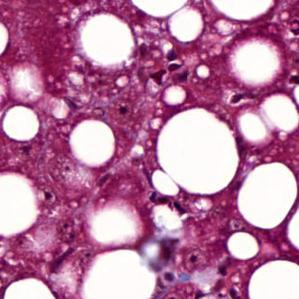steatosis: (237, 162, 299, 229), (248, 259, 299, 298), (3, 104, 41, 142), (2, 278, 55, 299)
